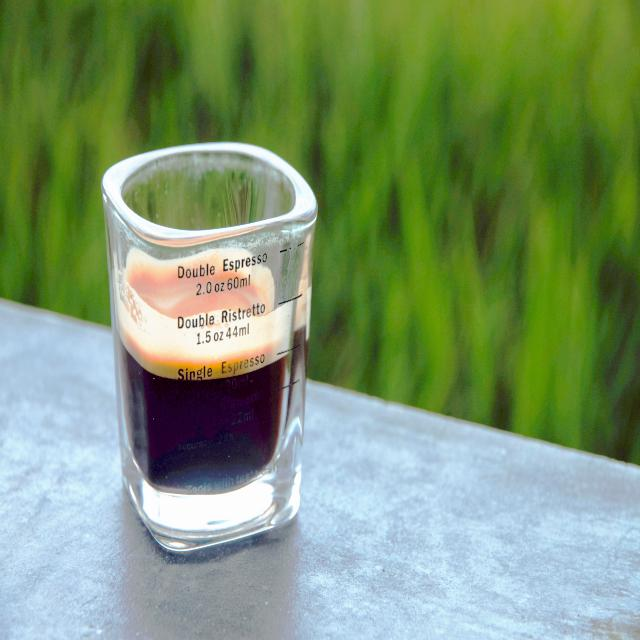drink: (102, 140, 317, 497)
